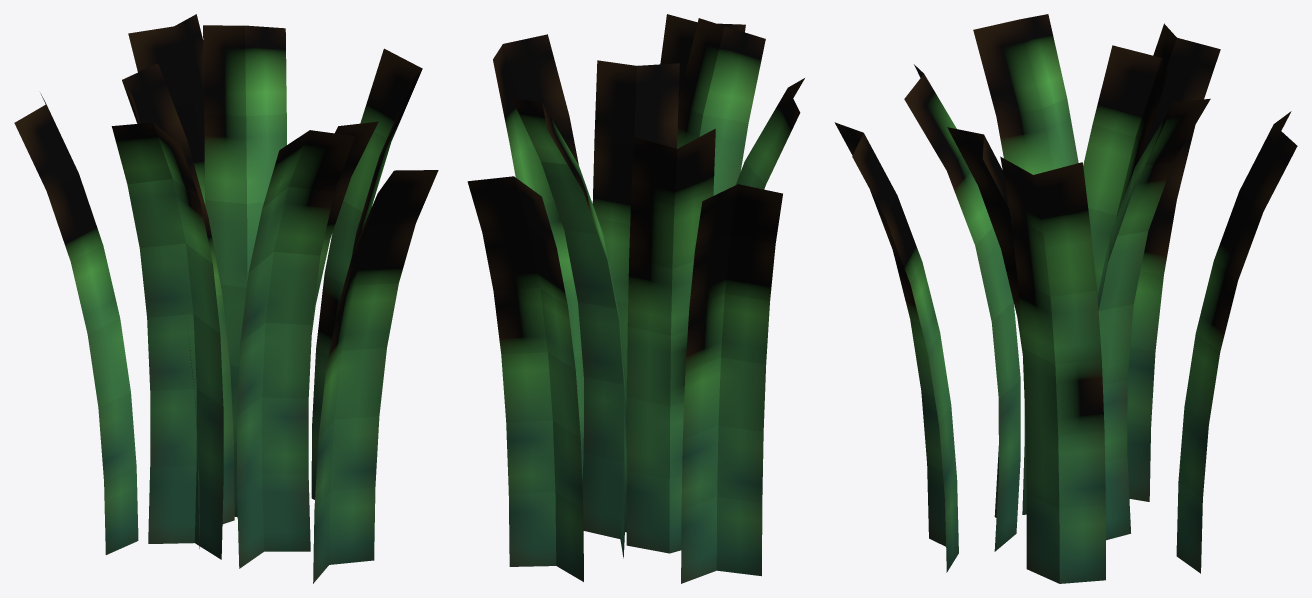
File: grass_sapling.fbx
3 views of the same model, side by side, from view 1: azimuth 30°, elevation 25°; view 2: azimuth 150°, elevation 25°; view 3: azimuth 270°, elevation 25° (orthographic).
Parts seen in each view (by area): view 1: Plane.008; view 2: Plane.008; view 3: Plane.008.
Boxes of the visible parts, x1=… form: Plane.008: x1=14, y1=14, x2=438, y2=583; Plane.008: x1=467, y1=14, x2=804, y2=583; Plane.008: x1=834, y1=14, x2=1297, y2=583.
Bounding box in the file's own units: 96.17 × 122 × 111.
